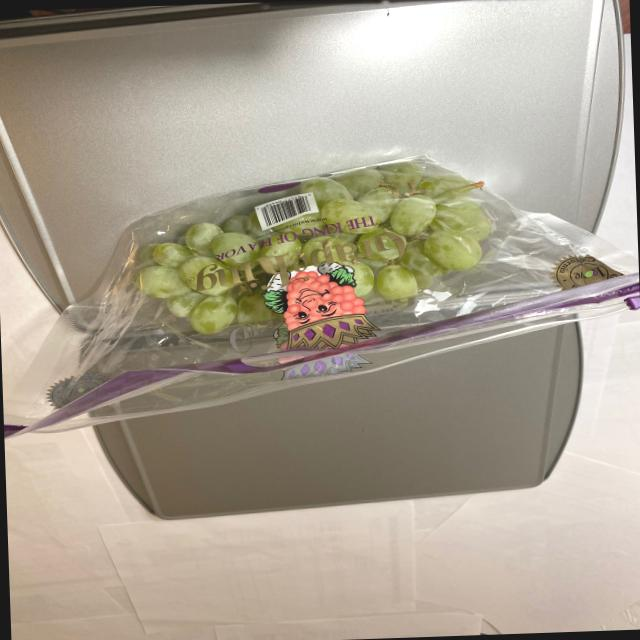grapes: (92, 156, 506, 346)
